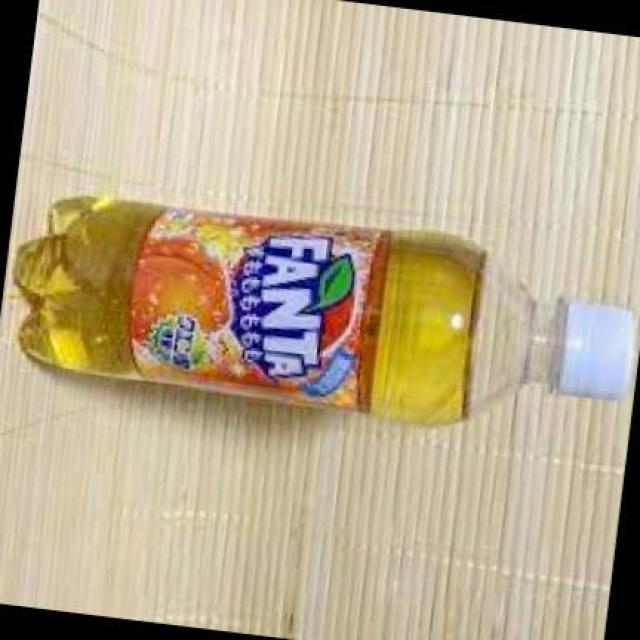high: (15, 197, 634, 425)
